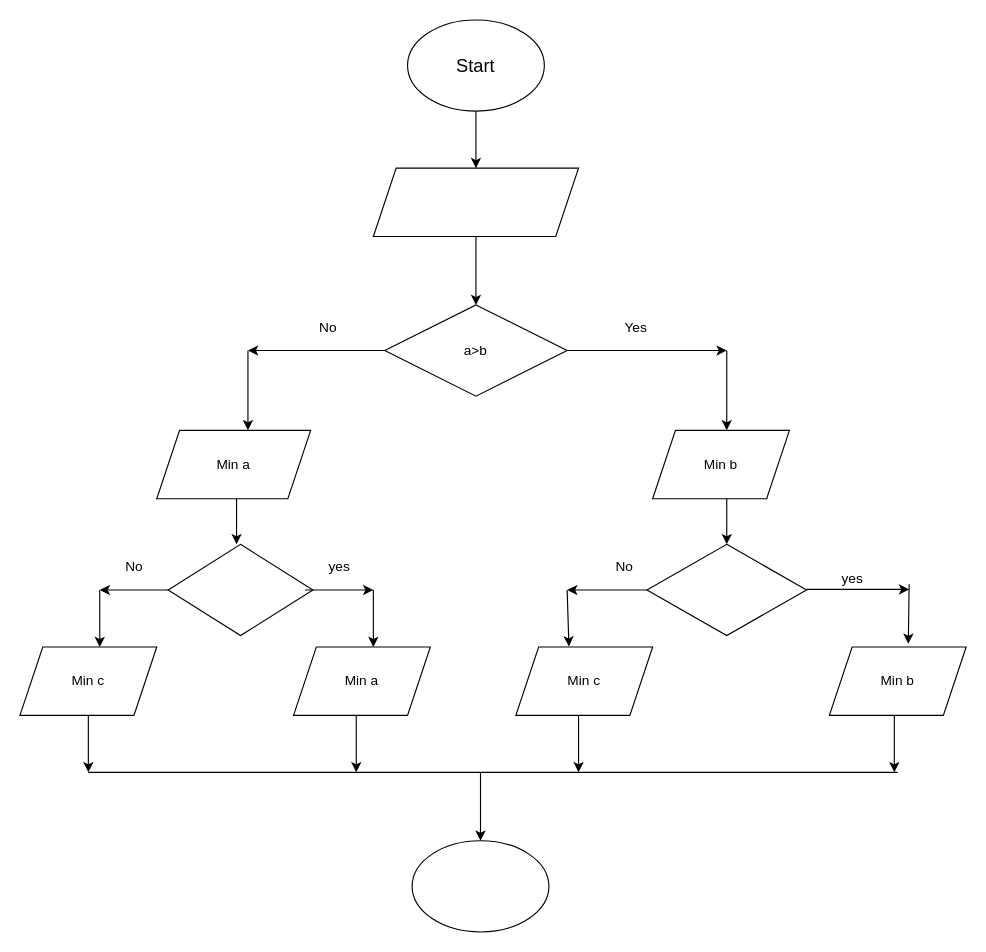
This 986x952 diagram has some shape labels left out. Here are the shapes that lost their labels. From the top down, the centre of each, then its label:
pixel 475 202: Input a,b,c
pixel 240 589: a>c
pixel 726 589: b>c
pixel 480 886: Stop
